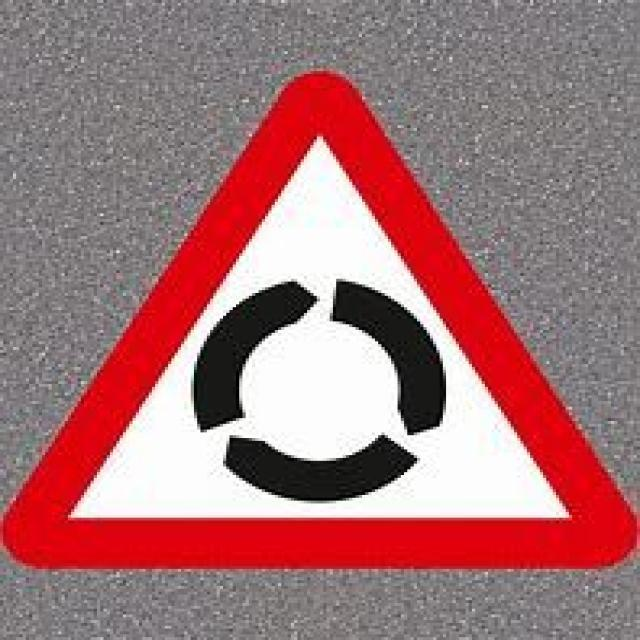roundabout: (19, 74, 623, 569)
